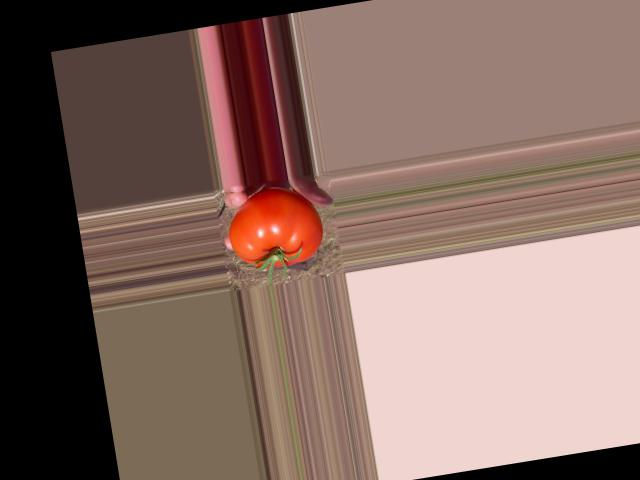tomato: (222, 181, 327, 274)
